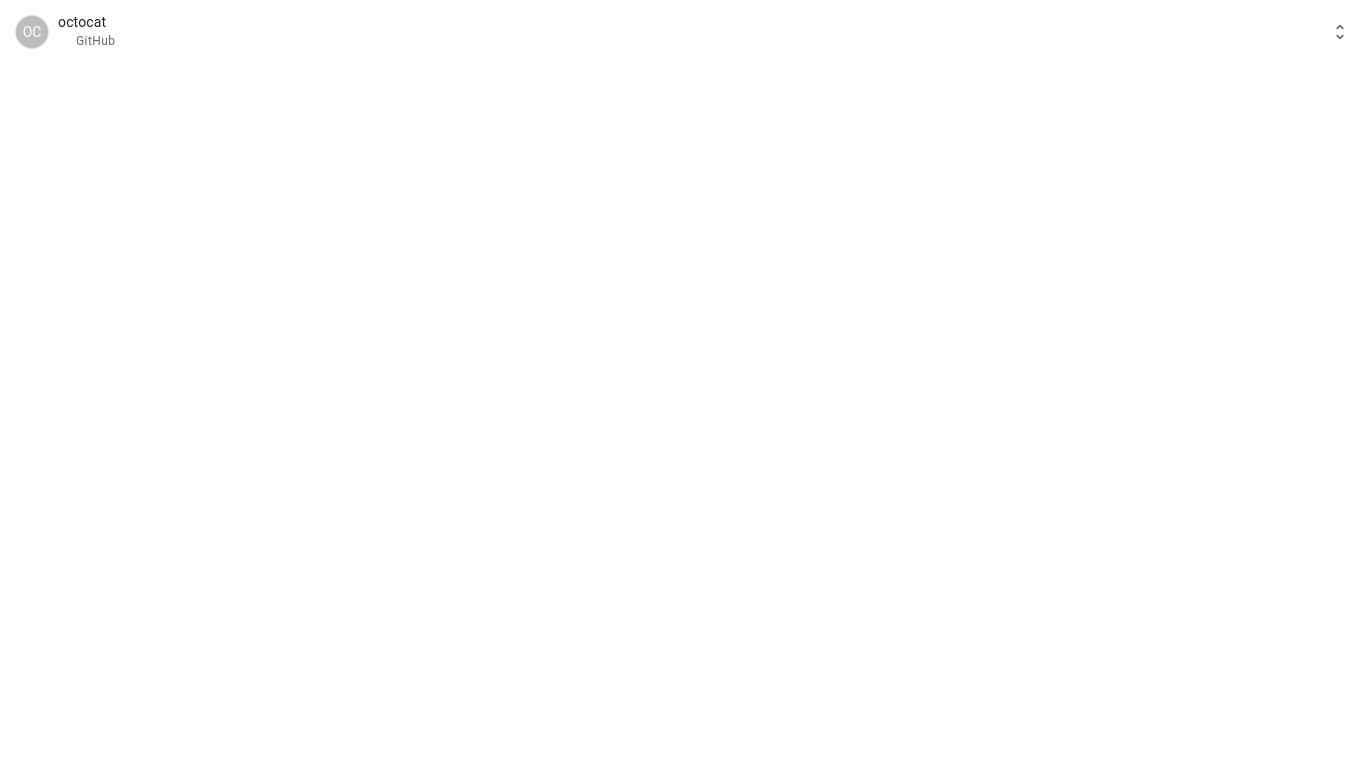
Test: Account at 375 px › opens the menu as a bottom sheet with the version line and closes it on picking an item
Click the button "OC octocat GitHub".
click(32, 32)  # box left=0, top=0, right=1365, bottom=64
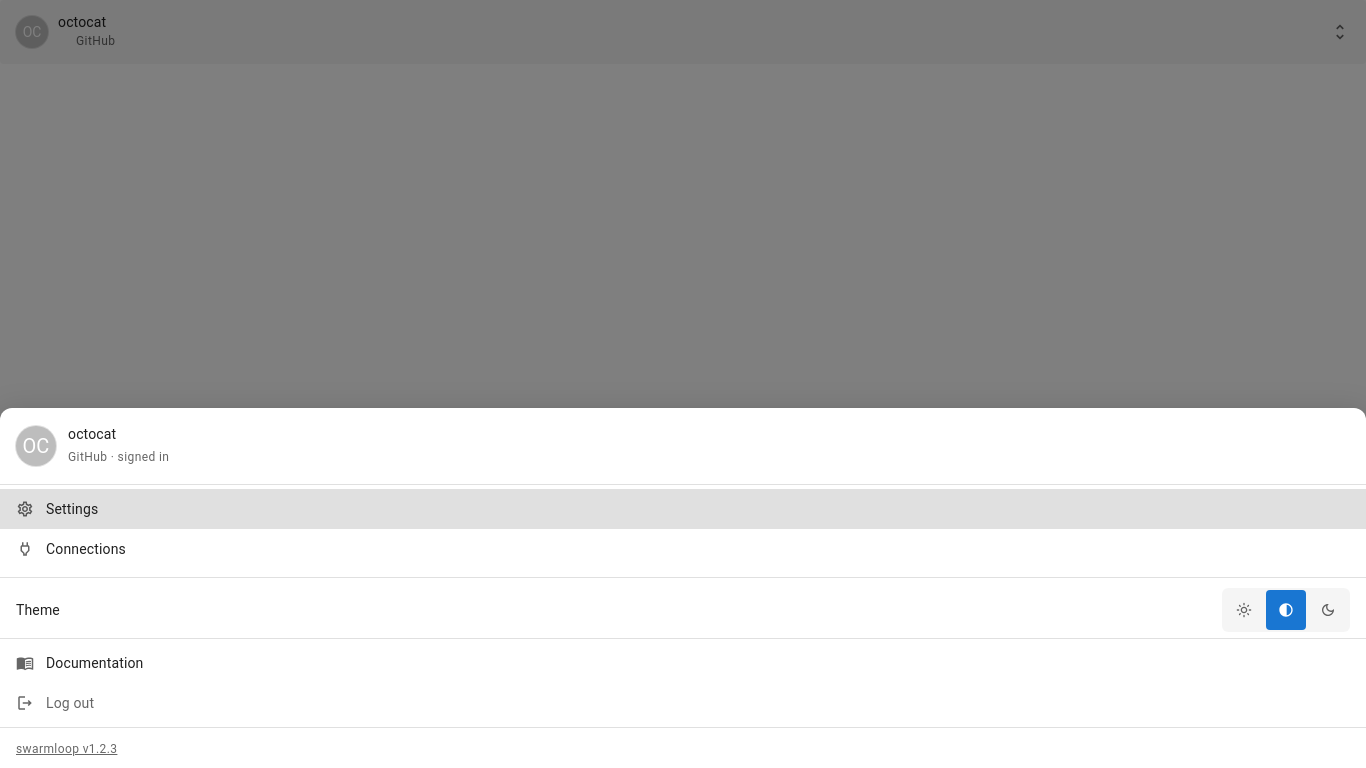
expect the dialog is shown: met, box left=0, top=408, right=1365, bottom=767
expect the link "swarmloop v1.2.3" is shown: met, box left=16, top=742, right=117, bottom=756
Click the menu item "Settings".
click(72, 509)  # box left=0, top=489, right=1365, bottom=529
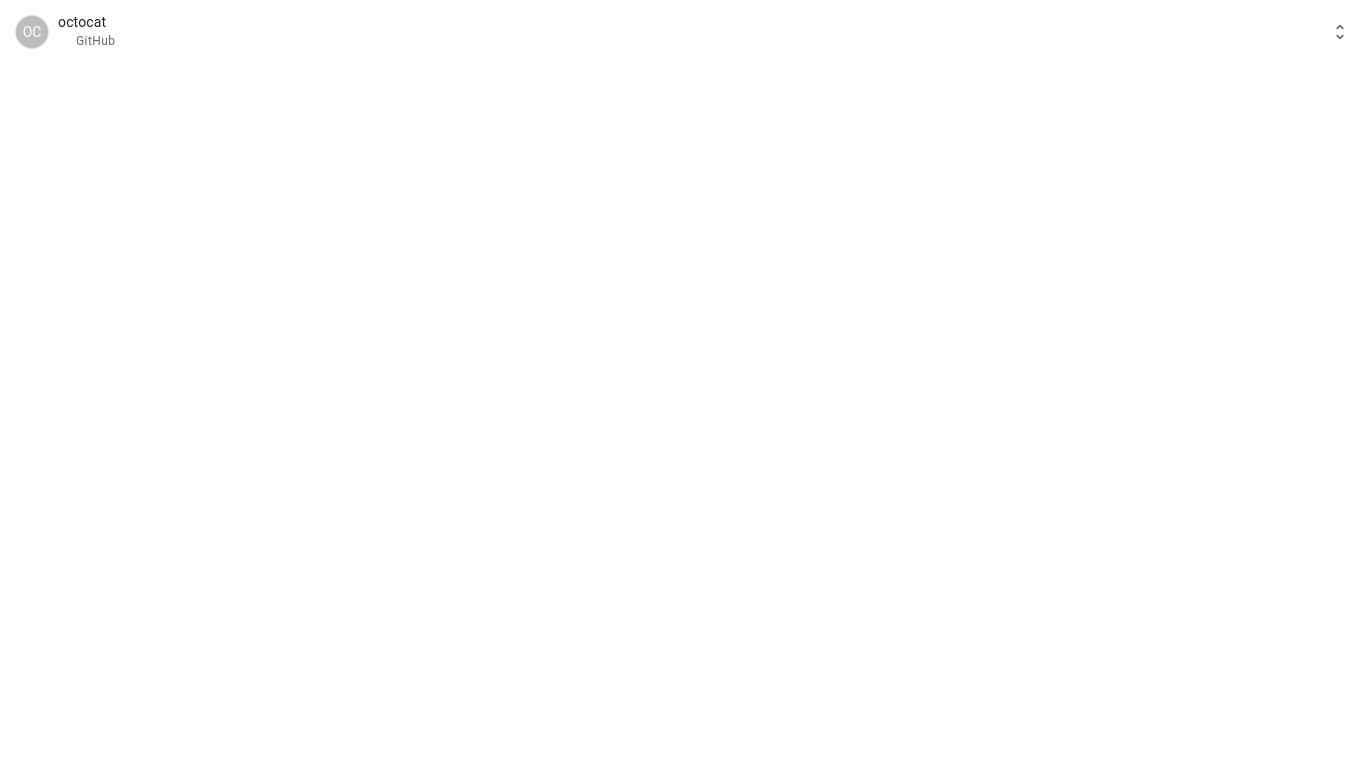
expect the menu "Account" is gone: met
